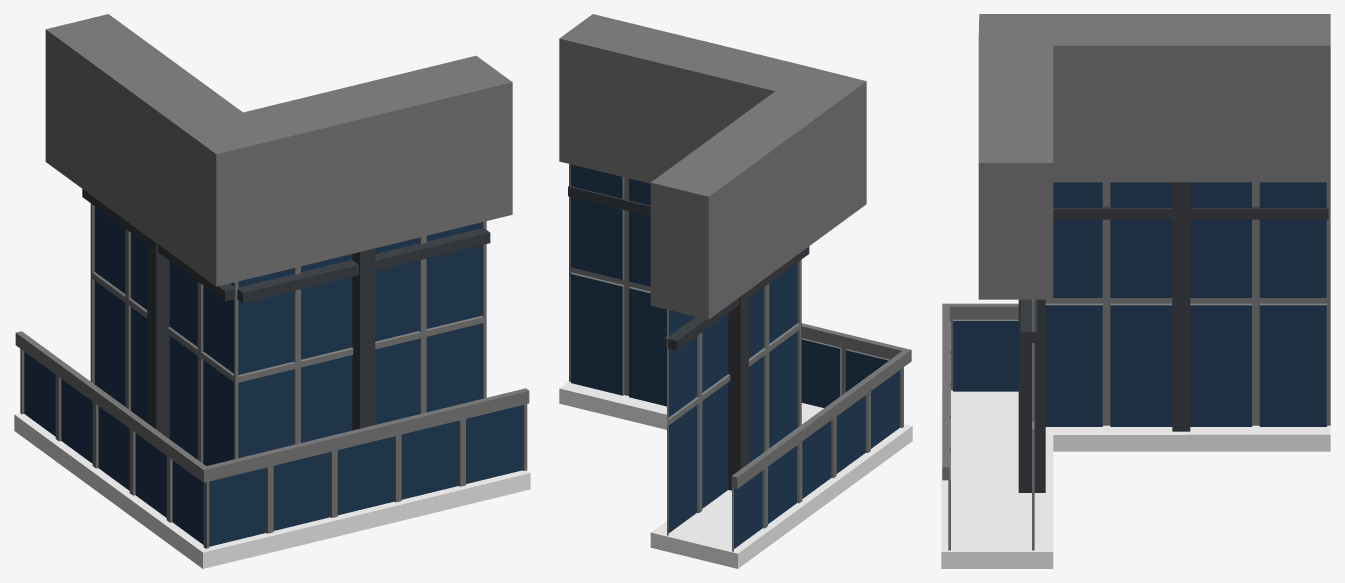
Rendered from top-c1_close.fbx.
3 renders of one model, left to right at view 1: azimuth 30°, elevation 25°; view 2: azimuth 150°, elevation 25°; view 3: azimuth 270°, elevation 25°, orthographic. The views are drawn at different scales.
Visible parts, largest first — view 1: M_Corner.009; view 2: M_Corner.009; view 3: M_Corner.009.
Part boxes in pixels (x1,y1,x2,y2): M_Corner.009: (14, 14, 530, 568); M_Corner.009: (559, 14, 912, 568); M_Corner.009: (941, 14, 1330, 568).
Size of the model in its own units: 5.22 by 6 by 5.22.
